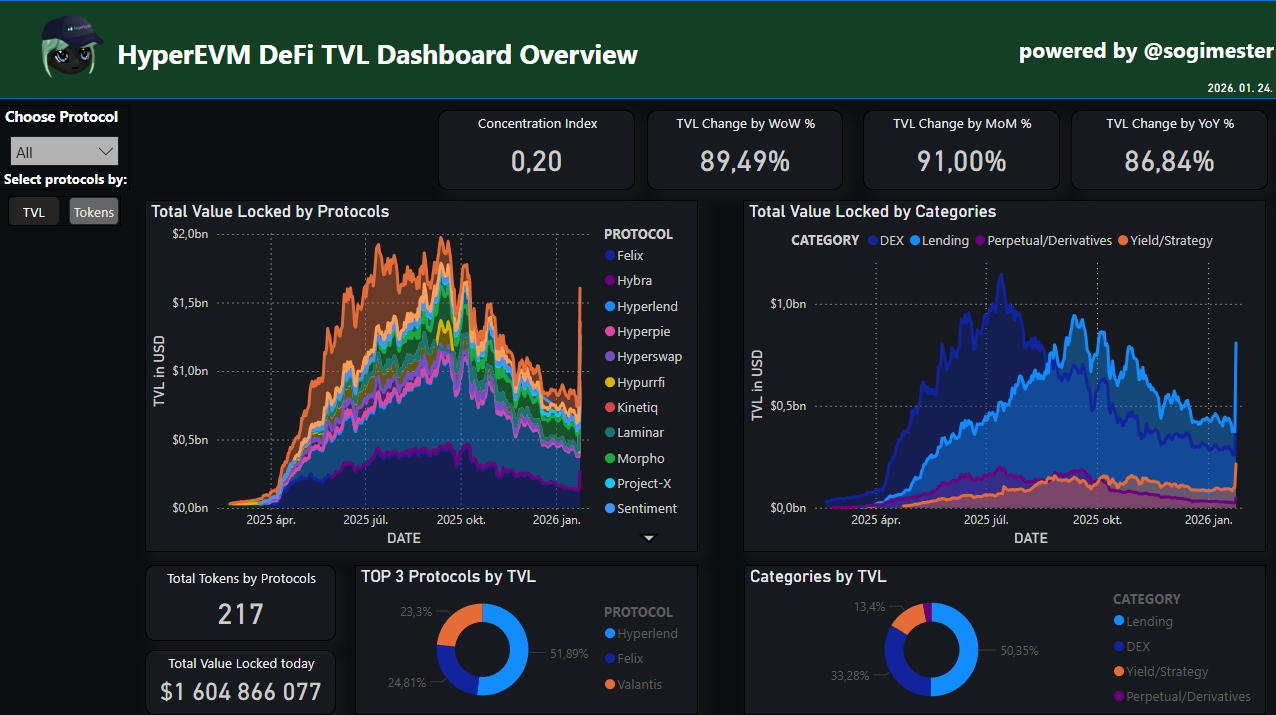

Layout of this report page (visuals, bound fields, positions):
{"tool":"powerbi","page":{"name":"HL_DEFI_ANALYTICS","canvas":[1280,720],"ordinal":0},"visuals":[{"type":"shape","box":[0,0,1280,99.2],"z":0},{"type":"stackedAreaChart","title":"Total Value Locked by Protocols","fields":{"Category":["VW_DEFI_DASHBOARD.DATE"],"Y":["Sum(VW_DEFI_DASHBOARD.TVL_USD)"],"Series":["VW_DEFI_DASHBOARD.PROTOCOL"]},"box":[145.6,200,553.3,352.2],"z":1000},{"type":"donutChart","title":"TOP 3 Protocols by TVL","fields":{"Category":["VW_DEFI_DASHBOARD.PROTOCOL"],"Y":["VW_DEFI_DASHBOARD.Latest_Total_TVL"]},"box":[355.7,564.6,343.3,150.8],"z":2000},{"type":"areaChart","title":"Total Value Locked by Categories","fields":{"Category":["VW_DEFI_DASHBOARD.DATE"],"Y":["Sum(VW_DEFI_DASHBOARD.TVL_USD)"],"Series":["VW_DEFI_DASHBOARD.CATEGORY"]},"box":[744.4,200,522.2,352.2],"z":3000},{"type":"donutChart","title":"Categories by TVL","fields":{"Category":["VW_DEFI_DASHBOARD.CATEGORY"],"Y":["VW_DEFI_DASHBOARD.Latest_Total_TVL"]},"box":[744.8,564.6,522.3,150.8],"z":4000},{"type":"card","title":"Total Value Locked today","fields":{"Values":["VW_DEFI_DASHBOARD.Latest_Total_TVL"]},"box":[145.6,650.2,191.6,65.2],"z":5000},{"type":"card","fields":{"Values":["Max(VW_DEFI_DASHBOARD.DATE)"]},"box":[1202.2,74.4,77.8,23.3],"z":6000},{"type":"slicer","title":"Choose Protocol","fields":{"Values":["VW_DEFI_DASHBOARD.PROTOCOL"]},"box":[0,105,131,85],"z":7000},{"type":"card","title":"Total Tokens  by Protocols","fields":{"Values":["Count(TOKENS_DETAILED.TOKEN)"]},"box":[145.6,564.6,191.6,75.9],"z":8000},{"type":"image","box":[12.6,0,118.7,113.8],"z":9000},{"type":"textbox","box":[856.7,30,423.3,44.4],"z":10000},{"type":"textbox","box":[112.8,30.2,608.9,58.4],"z":11000},{"type":"bookmarkNavigator","box":[9,196,113,30],"z":14000},{"type":"card","title":"TVL Change by YoY %","fields":{"Values":["VW_DEFI_DASHBOARD.TVL YoY %"]},"box":[1072.2,110,196.7,80],"z":15000},{"type":"card","title":"TVL Change by MoM %","fields":{"Values":["VW_DEFI_DASHBOARD.TVL MoM %"]},"box":[864.4,110,196.7,80],"z":16000},{"type":"card","title":"TVL Change by WoW %","fields":{"Values":["VW_DEFI_DASHBOARD.TVL WoW %"]},"box":[647.8,110,196.7,80],"z":17000},{"type":"card","title":"Concentration Index","fields":{"Values":["VW_DEFI_DASHBOARD.Concentration_Index"]},"box":[438.9,110,196.7,80],"z":18000},{"type":"textbox","box":[0,165,168.7,34.8],"z":19000}]}

Visuals, with their boxes in screenshot pixels (x1, y1, x2, y2), scaled from the page's 1280x720 canvas onto the 1276x715 screenshot:
shape: locate(0, 0, 1275, 99)
"Total Value Locked by Protocols" stackedAreaChart: locate(145, 199, 697, 548)
"TOP 3 Protocols by TVL" donutChart: locate(355, 561, 697, 710)
"Total Value Locked by Categories" areaChart: locate(742, 199, 1263, 548)
"Categories by TVL" donutChart: locate(742, 561, 1263, 710)
"Total Value Locked today" card: locate(145, 646, 336, 710)
card - Max(VW_DEFI_DASHBOARD.DATE): locate(1198, 74, 1275, 97)
"Choose Protocol" slicer: locate(0, 104, 131, 189)
"Total Tokens  by Protocols" card: locate(145, 561, 336, 636)
image: locate(13, 0, 131, 113)
textbox: locate(854, 30, 1275, 74)
textbox: locate(112, 30, 719, 88)
bookmarkNavigator: locate(9, 195, 122, 224)
"TVL Change by YoY %" card: locate(1069, 109, 1265, 189)
"TVL Change by MoM %" card: locate(862, 109, 1058, 189)
"TVL Change by WoW %" card: locate(646, 109, 842, 189)
"Concentration Index" card: locate(438, 109, 634, 189)
textbox: locate(0, 164, 168, 198)
